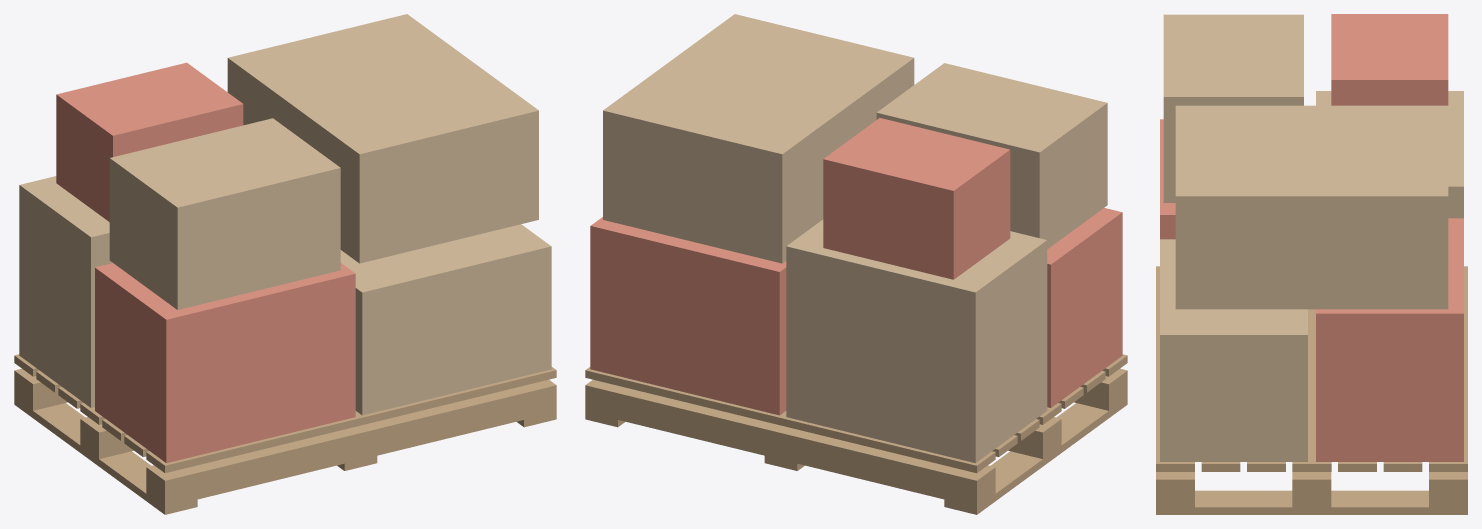
The model's file is pallet_mixed.glb.
3 renders of one model, left to right at view 1: azimuth 30°, elevation 25°; view 2: azimuth 150°, elevation 25°; view 3: azimuth 270°, elevation 25°, orthographic. The views are drawn at different scales.
Parts seen in each view (by area): view 1: root__kraft, root__tint, root__wood; view 2: root__kraft, root__tint, root__wood; view 3: root__kraft, root__tint, root__wood.
Boxes of the visible parts, box(x1,y1,x2,y2) form: root__kraft: box(19, 14, 551, 415); root__tint: box(56, 62, 355, 463); root__wood: box(14, 354, 556, 514); root__kraft: box(603, 14, 1107, 463); root__tint: box(590, 118, 1122, 415); root__wood: box(585, 354, 1127, 514); root__kraft: box(1160, 14, 1463, 461); root__tint: box(1160, 14, 1463, 461); root__wood: box(1156, 266, 1467, 514).
Bounding box in the file's own units: 1.2 × 0.905 × 0.8002.
